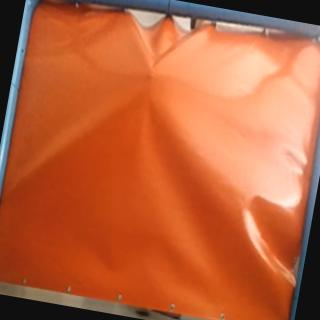Hit-hRxx: (147, 68, 158, 80)
